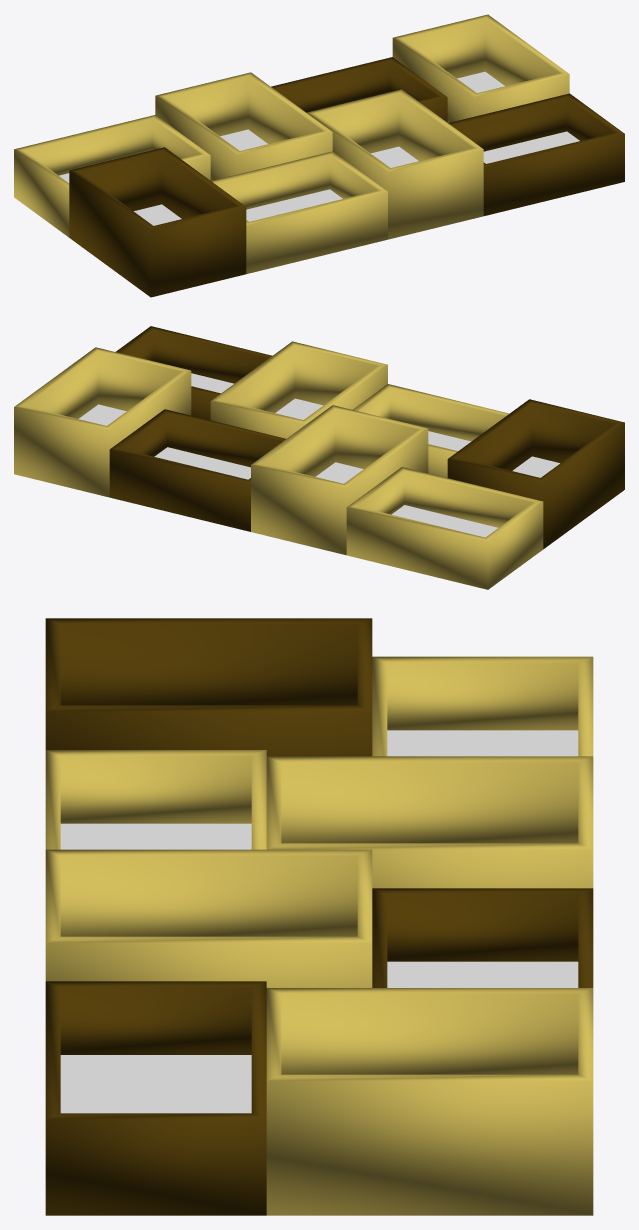
The model's file is momo pictures.fbx.
3 views of the same model, one above another, from view 1: azimuth 30°, elevation 25°; view 2: azimuth 150°, elevation 25°; view 3: azimuth 270°, elevation 25° (orthographic). The views are drawn at different scales.
Parts seen in each view (by area): view 1: NurbsPath, NurbsPath.004, NurbsPath.007, NurbsPath.003, NurbsPath.002, NurbsPath.006, NurbsPath.001, NurbsPath.005, Picture.006; view 2: NurbsPath.001, NurbsPath.006, NurbsPath.002, NurbsPath, NurbsPath.005, NurbsPath.004, Picture.006, NurbsPath.003, NurbsPath.007; view 3: NurbsPath.006, NurbsPath.004, NurbsPath, NurbsPath.007, NurbsPath.002, Picture.006, NurbsPath.001, NurbsPath.003, NurbsPath.005.
Part boxes in pixels (x1=…): NurbsPath: x1=69, y1=147, x2=246, y2=297; NurbsPath.004: x1=306, y1=89, x2=483, y2=239; NurbsPath.007: x1=448, y1=93, x2=624, y2=215; NurbsPath.003: x1=211, y1=151, x2=387, y2=273; NurbsPath.002: x1=155, y1=72, x2=332, y2=180; NurbsPath.006: x1=392, y1=14, x2=569, y2=122; NurbsPath.001: x1=14, y1=115, x2=210, y2=237; NurbsPath.005: x1=271, y1=57, x2=447, y2=122; Picture.006: x1=59, y1=71, x2=579, y2=225; NurbsPath.001: x1=346, y1=467, x2=543, y2=589; NurbsPath.006: x1=14, y1=347, x2=191, y2=497; NurbsPath.002: x1=251, y1=405, x2=428, y2=555; NurbsPath: x1=447, y1=399, x2=624, y2=549; NurbsPath.005: x1=109, y1=409, x2=285, y2=531; NurbsPath.004: x1=210, y1=341, x2=387, y2=438; Picture.006: x1=79, y1=373, x2=559, y2=537; NurbsPath.003: x1=352, y1=384, x2=509, y2=477; NurbsPath.007: x1=116, y1=326, x2=272, y2=420; NurbsPath.006: x1=266, y1=988, x2=593, y2=1215; NurbsPath.004: x1=45, y1=849, x2=372, y2=987; NurbsPath: x1=45, y1=618, x2=372, y2=756; NurbsPath.007: x1=45, y1=981, x2=266, y2=1215; NurbsPath.002: x1=266, y1=756, x2=593, y2=888; Picture.006: x1=60, y1=730, x2=578, y2=1113; NurbsPath.001: x1=372, y1=656, x2=593, y2=756; NurbsPath.003: x1=45, y1=750, x2=266, y2=849; NurbsPath.005: x1=372, y1=888, x2=593, y2=987.
Bounding box in the file's own units: 51.66 × 7 × 25.83.
